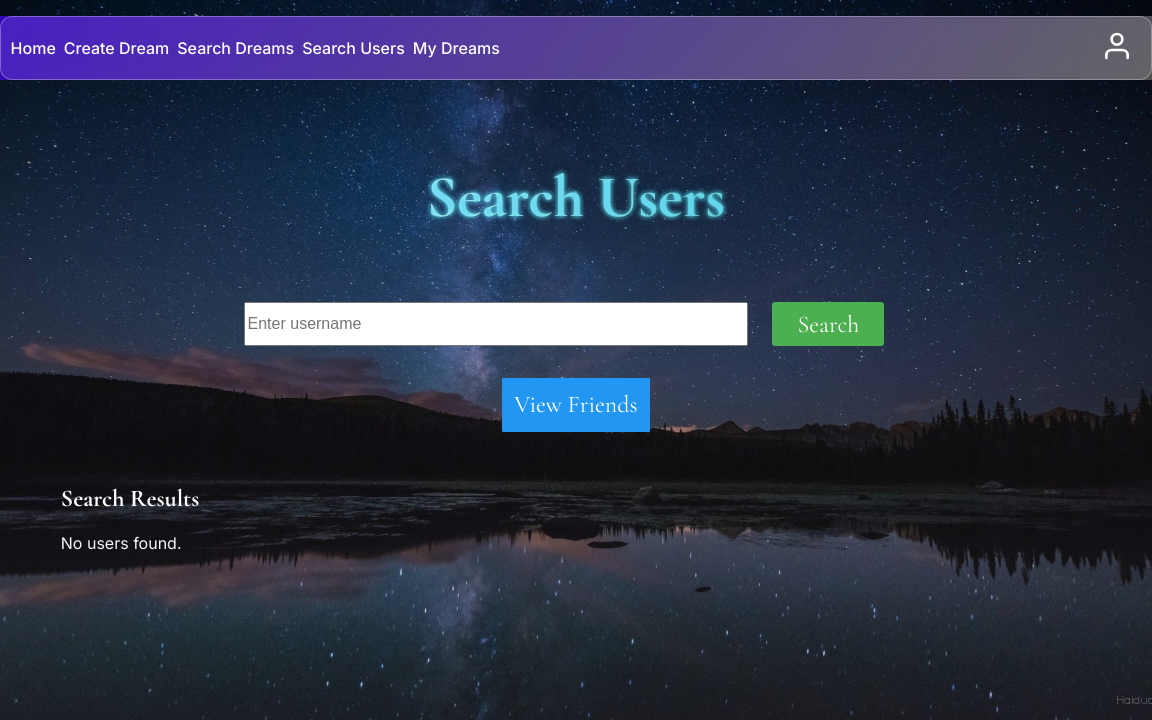
Test: SearchUsers › shows no users found message on searching for non-existent username
This screenshot has width=1152, height=720.
In the field with placeholder "Enter username": (496, 324) left=244, top=302, right=748, bottom=346, type "rattt"
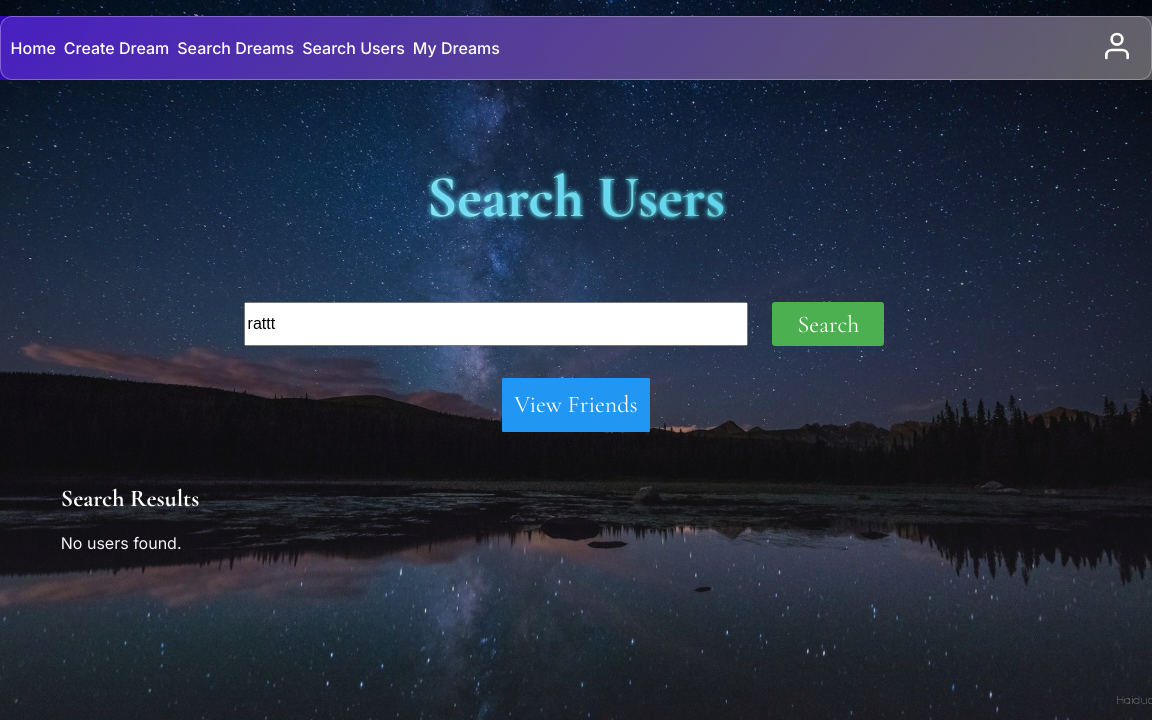
Click the button "Search": (828, 324) left=772, top=302, right=884, bottom=346
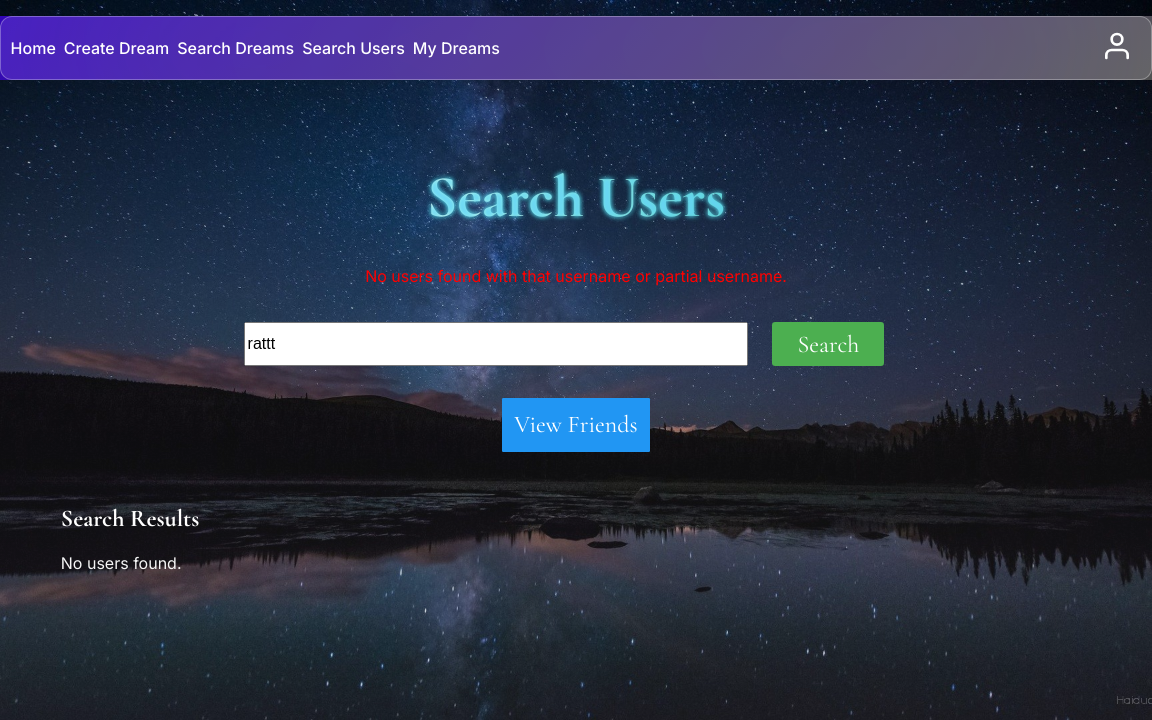
Expected: the text "No users found with that username or partial username." is shown, left=365, top=266, right=787, bottom=286
